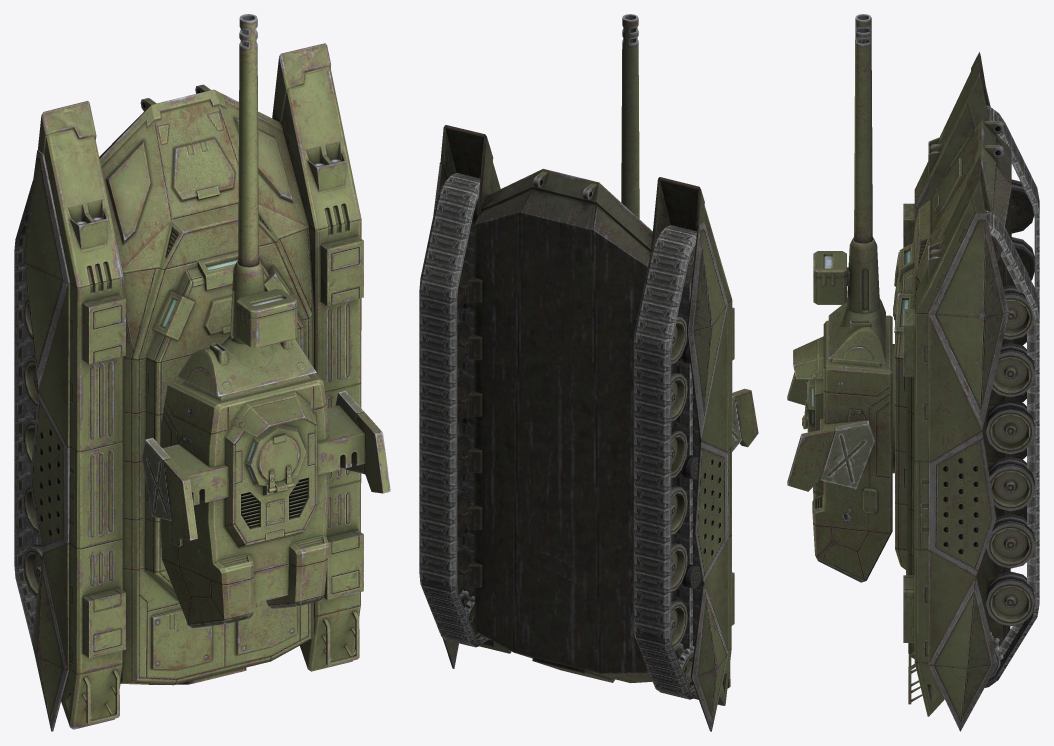
3 renders of one model, left to right at view 1: azimuth 30°, elevation 25°; view 2: azimuth 150°, elevation 25°; view 3: azimuth 270°, elevation 25°, orthographic. The views are drawn at different scales.
Parts seen in each view (by area): view 1: hull, turret_01, hull_nc, gun_01_mask, chassis_track_L, gun_01, gun_01_mask_nc, turret_01_nc, chassis_wheel_L_10, chassis_wheel_L_05; view 2: hull, chassis_track_L, chassis_track_R, hull_nc, gun_01, turret_01, chassis_wheel_L_04, chassis_wheel_L_08, chassis_wheel_L_07, chassis_wheel_L_05, chassis_wheel_L_10, chassis_wheel_L_02; view 3: hull, turret_01, hull_nc, chassis_track_R, gun_01_mask, gun_01, chassis_wheel_R_05, chassis_wheel_R_10, chassis_wheel_R_08, chassis_wheel_R_07, gun_01_mask_nc, chassis_wheel_R_04 (+5 smaller).
Boxes of the visible parts, x1,y1,x2,y2 form: hull: [24, 43, 361, 731]; turret_01: [142, 373, 390, 628]; hull_nc: [69, 84, 363, 724]; gun_01_mask: [177, 260, 316, 396]; chassis_track_L: [14, 181, 40, 649]; gun_01: [238, 14, 258, 267]; gun_01_mask_nc: [236, 289, 297, 348]; turret_01_nc: [169, 434, 299, 546]; chassis_wheel_L_10: [23, 544, 42, 598]; chassis_wheel_L_05: [23, 356, 38, 408]; hull: [433, 125, 732, 731]; chassis_track_L: [633, 225, 702, 699]; chassis_track_R: [419, 173, 487, 647]; hull_nc: [458, 168, 734, 688]; gun_01: [621, 14, 639, 218]; turret_01: [732, 388, 758, 451]; chassis_wheel_L_04: [671, 371, 687, 421]; chassis_wheel_L_08: [671, 542, 687, 591]; chassis_wheel_L_07: [671, 485, 687, 534]; chassis_wheel_L_05: [671, 428, 687, 477]; chassis_wheel_L_10: [671, 599, 687, 648]; chassis_wheel_L_02: [671, 316, 687, 363]; hull: [894, 52, 1011, 731]; turret_01: [787, 315, 894, 582]; hull_nc: [893, 119, 1014, 704]; chassis_track_R: [984, 210, 1039, 687]; gun_01_mask: [828, 237, 885, 363]; gun_01: [854, 14, 872, 243]; chassis_wheel_R_05: [985, 399, 1034, 454]; chassis_wheel_R_10: [985, 571, 1034, 626]; chassis_wheel_R_08: [986, 514, 1034, 568]; chassis_wheel_R_07: [988, 456, 1034, 511]; gun_01_mask_nc: [813, 251, 850, 304]; chassis_wheel_R_04: [992, 342, 1034, 397].
Size of the model in its own units: 3.54 by 7.71 by 2.71.
Materials: 2 (2 with a texture image).
